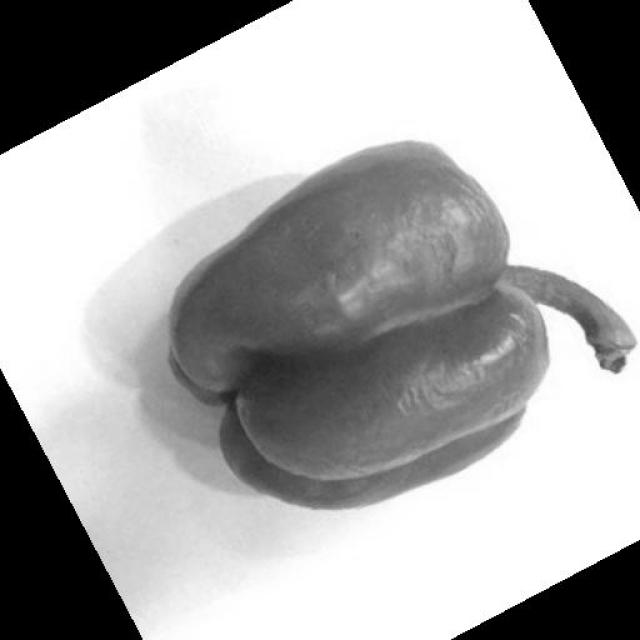Fresh_Capsicum: (167, 120, 621, 494)
